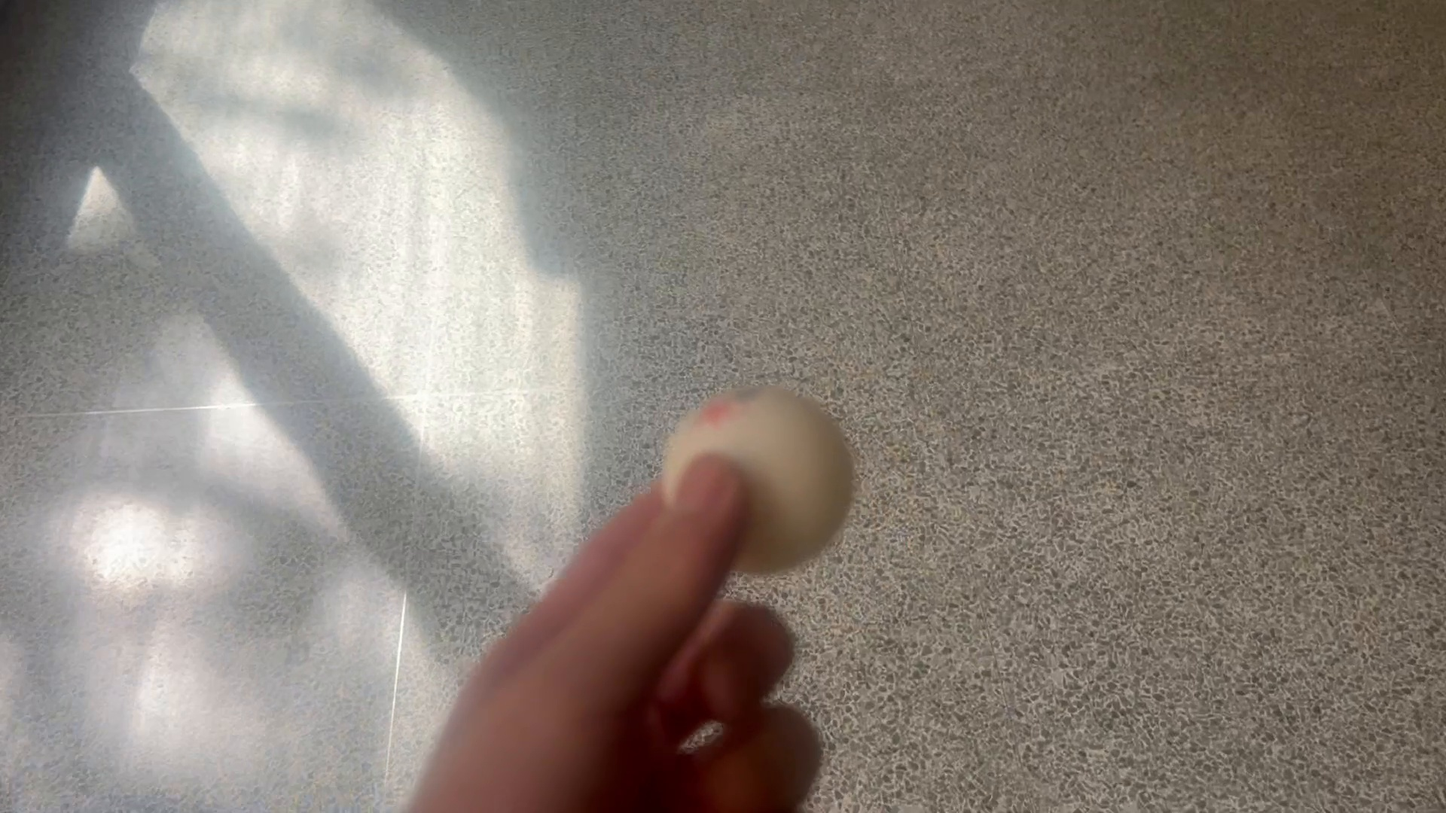Ball: (659, 381, 846, 584)
